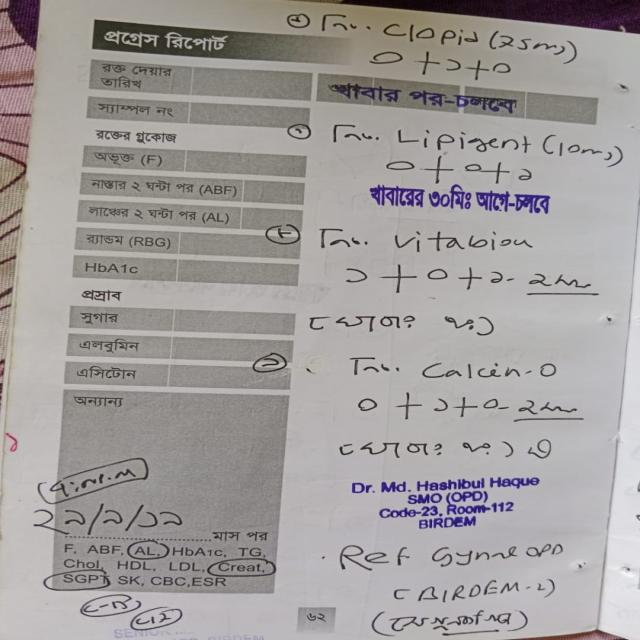Calcin D: (416, 359, 576, 385)
Lipigent: (381, 122, 545, 160)
Vitabion: (391, 223, 549, 266)
